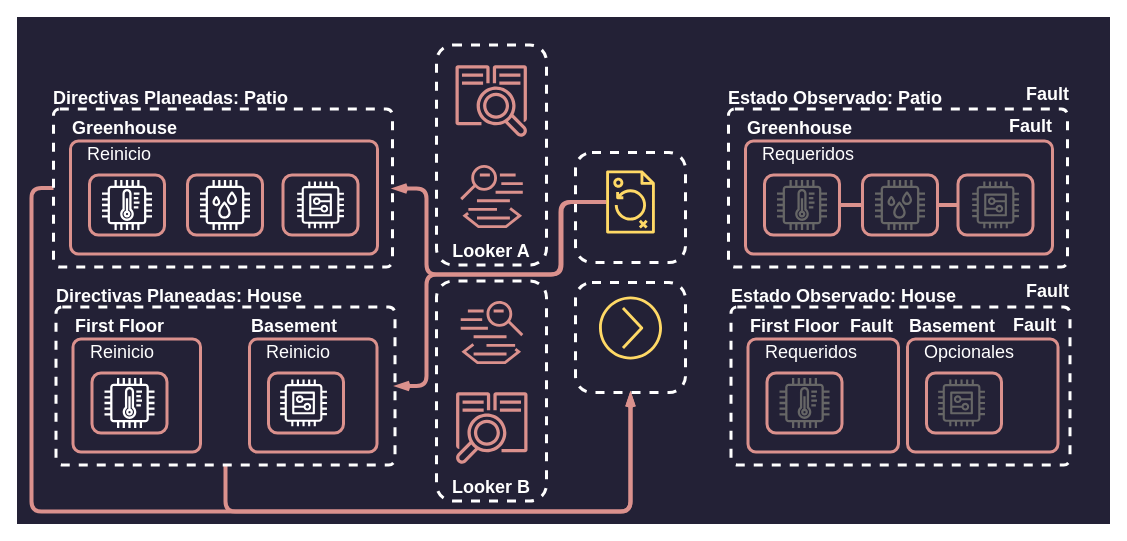
The diagram is 1127 pixels wide and 541 high, and some of its shapes have lost their labels. Each missing label, with the box of its shape:
Bran: (574, 150, 686, 264)
DoThing: (574, 280, 686, 394)
